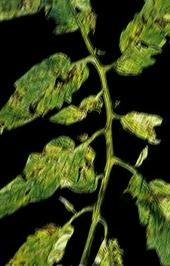Tomato Septoria leaf spot: (0, 132, 106, 226), (0, 49, 90, 139), (119, 162, 170, 266), (113, 0, 170, 76), (0, 222, 80, 266), (0, 0, 59, 26)
